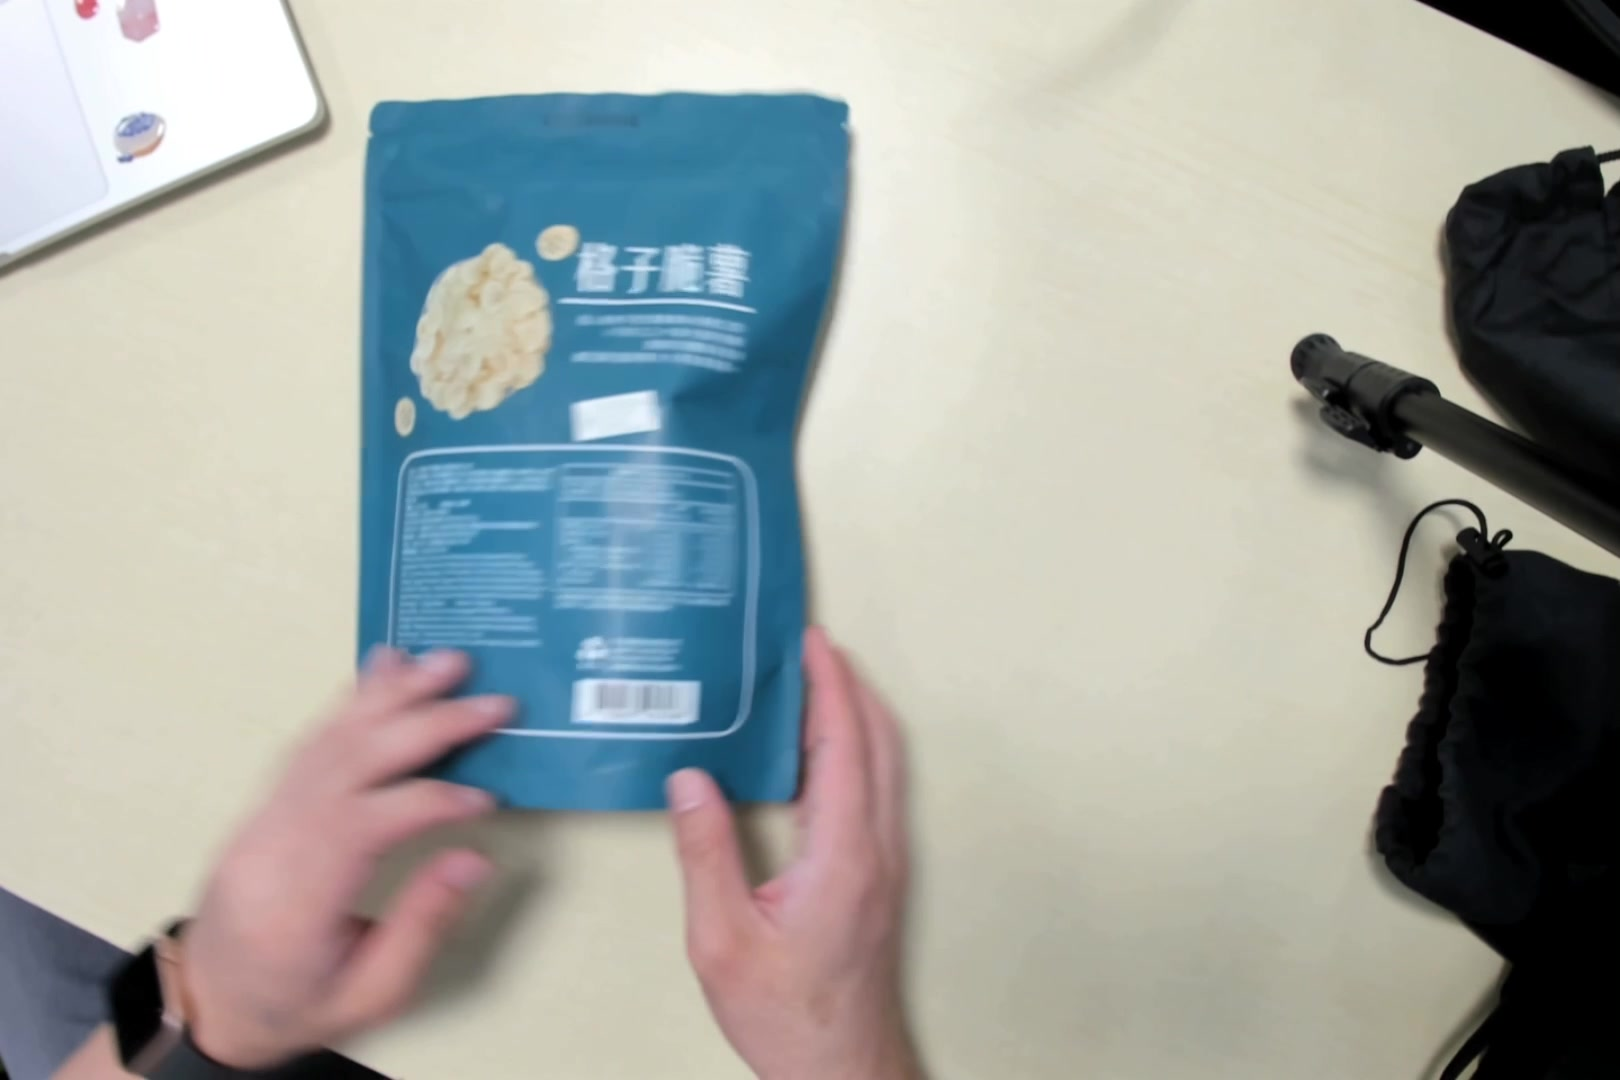PotatoChipsKeropok_100-199g_NonHalal_NonHealthy: (362, 100, 808, 804)
